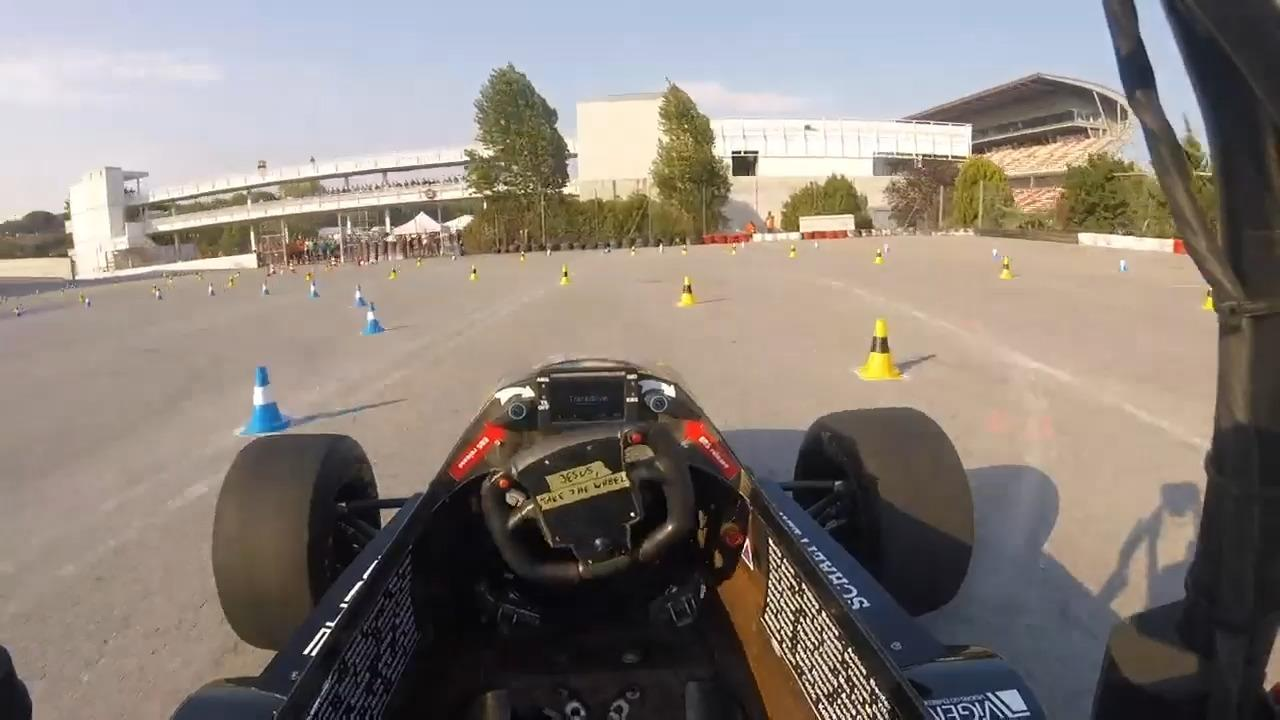blue_cone: (242, 365, 286, 432), (364, 302, 379, 334), (352, 284, 364, 307), (308, 280, 321, 301), (1117, 255, 1128, 275), (990, 243, 999, 263), (154, 285, 163, 303), (882, 240, 891, 257), (227, 273, 235, 289), (84, 294, 92, 310), (262, 279, 269, 297), (207, 282, 215, 297)
yellow_cone: (862, 319, 898, 380), (1202, 272, 1223, 314), (679, 276, 695, 306), (999, 253, 1013, 282), (872, 242, 885, 267), (560, 265, 569, 286), (787, 242, 797, 260), (468, 264, 478, 281), (729, 241, 739, 256), (390, 264, 398, 280), (305, 269, 313, 284)
